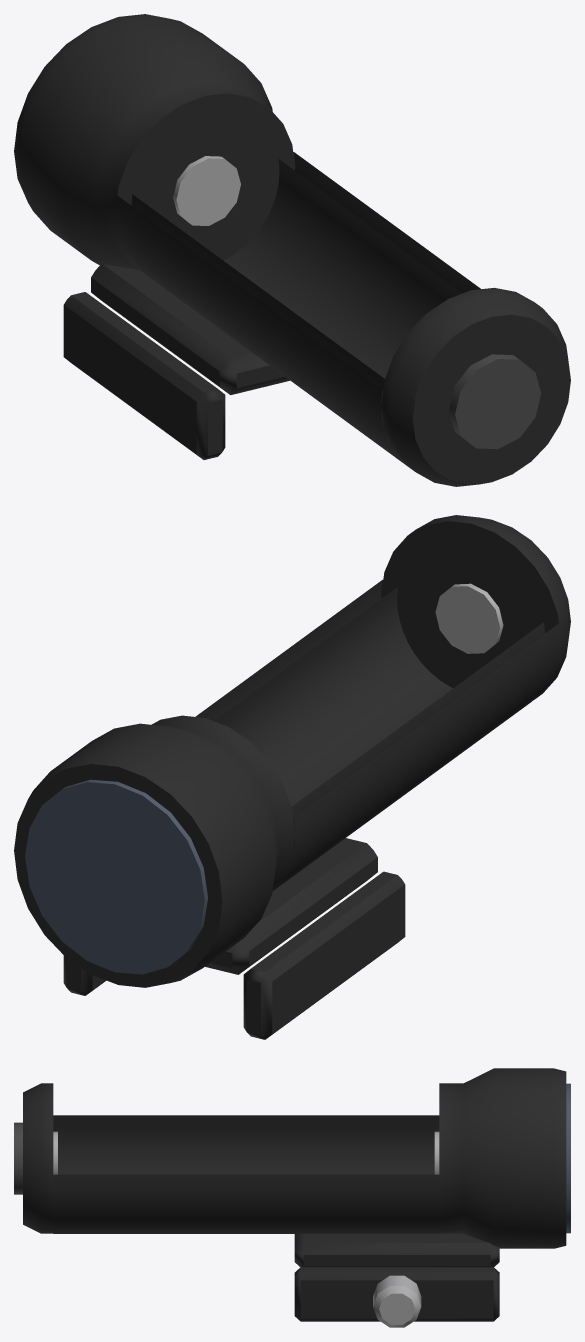
The model's file is weapon_light.glb.
The picture shows the model from 3 angles, top to bottom: view 1: azimuth 30°, elevation 25°; view 2: azimuth 150°, elevation 25°; view 3: azimuth 270°, elevation 25°; orthographic projection. The views are drawn at different scales.
Parts seen in each view (by area): view 1: body; view 2: body; view 3: body.
Part boxes in pixels (x1,y1,x2,y2): body: [14, 14, 570, 486]; body: [14, 515, 570, 1039]; body: [14, 1068, 570, 1327].
Size of the model in its own units: 0.0355 by 0.0385 by 0.0923.
